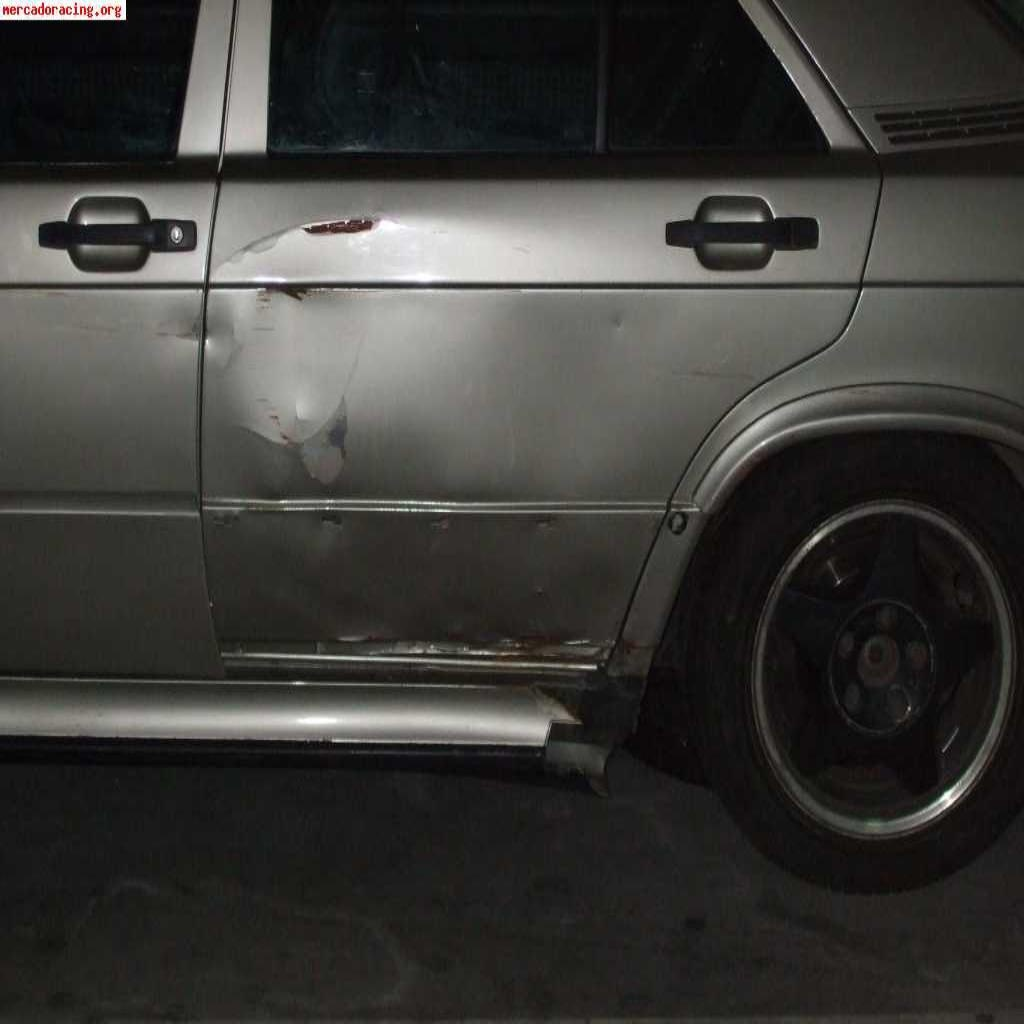Dent: (173, 316, 391, 502), (213, 596, 635, 691)
Scratch: (290, 214, 386, 242)
